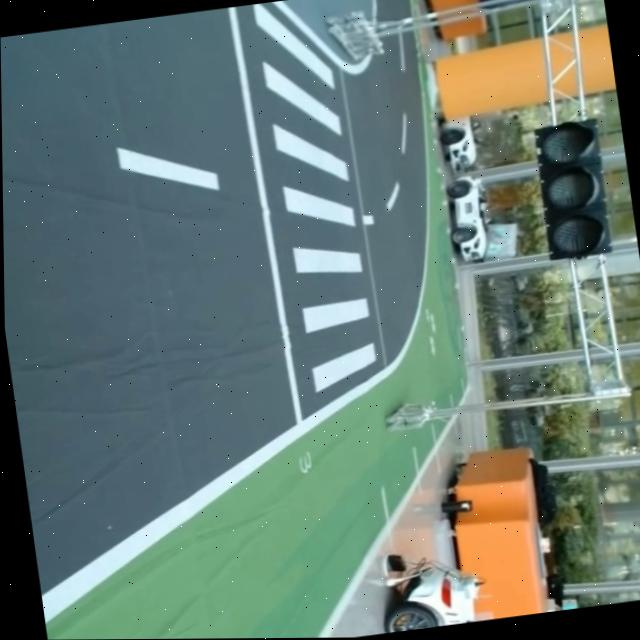traffic-light: (525, 113, 622, 268)
